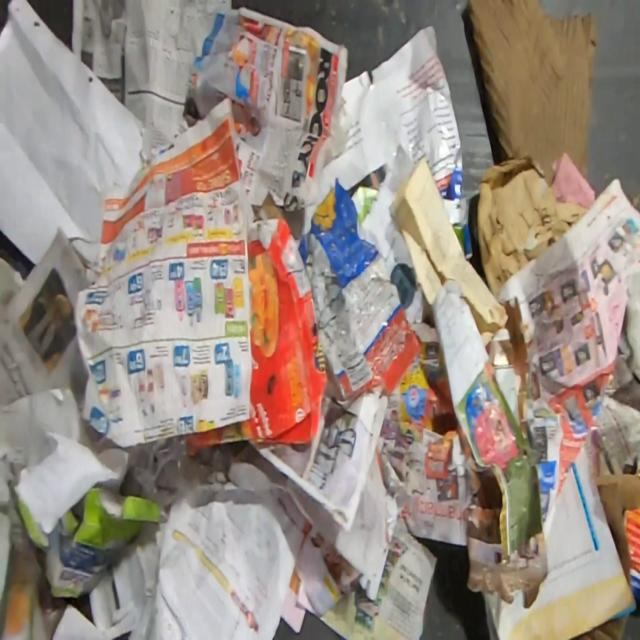cardboard: (177, 216, 328, 454), (298, 176, 424, 399), (464, 0, 598, 186), (14, 483, 162, 600), (593, 473, 640, 589)
